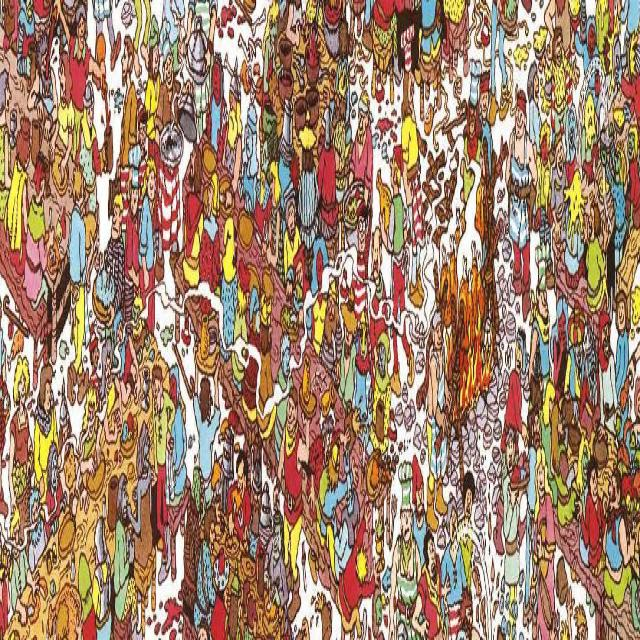waldo: (355, 186, 368, 254)
